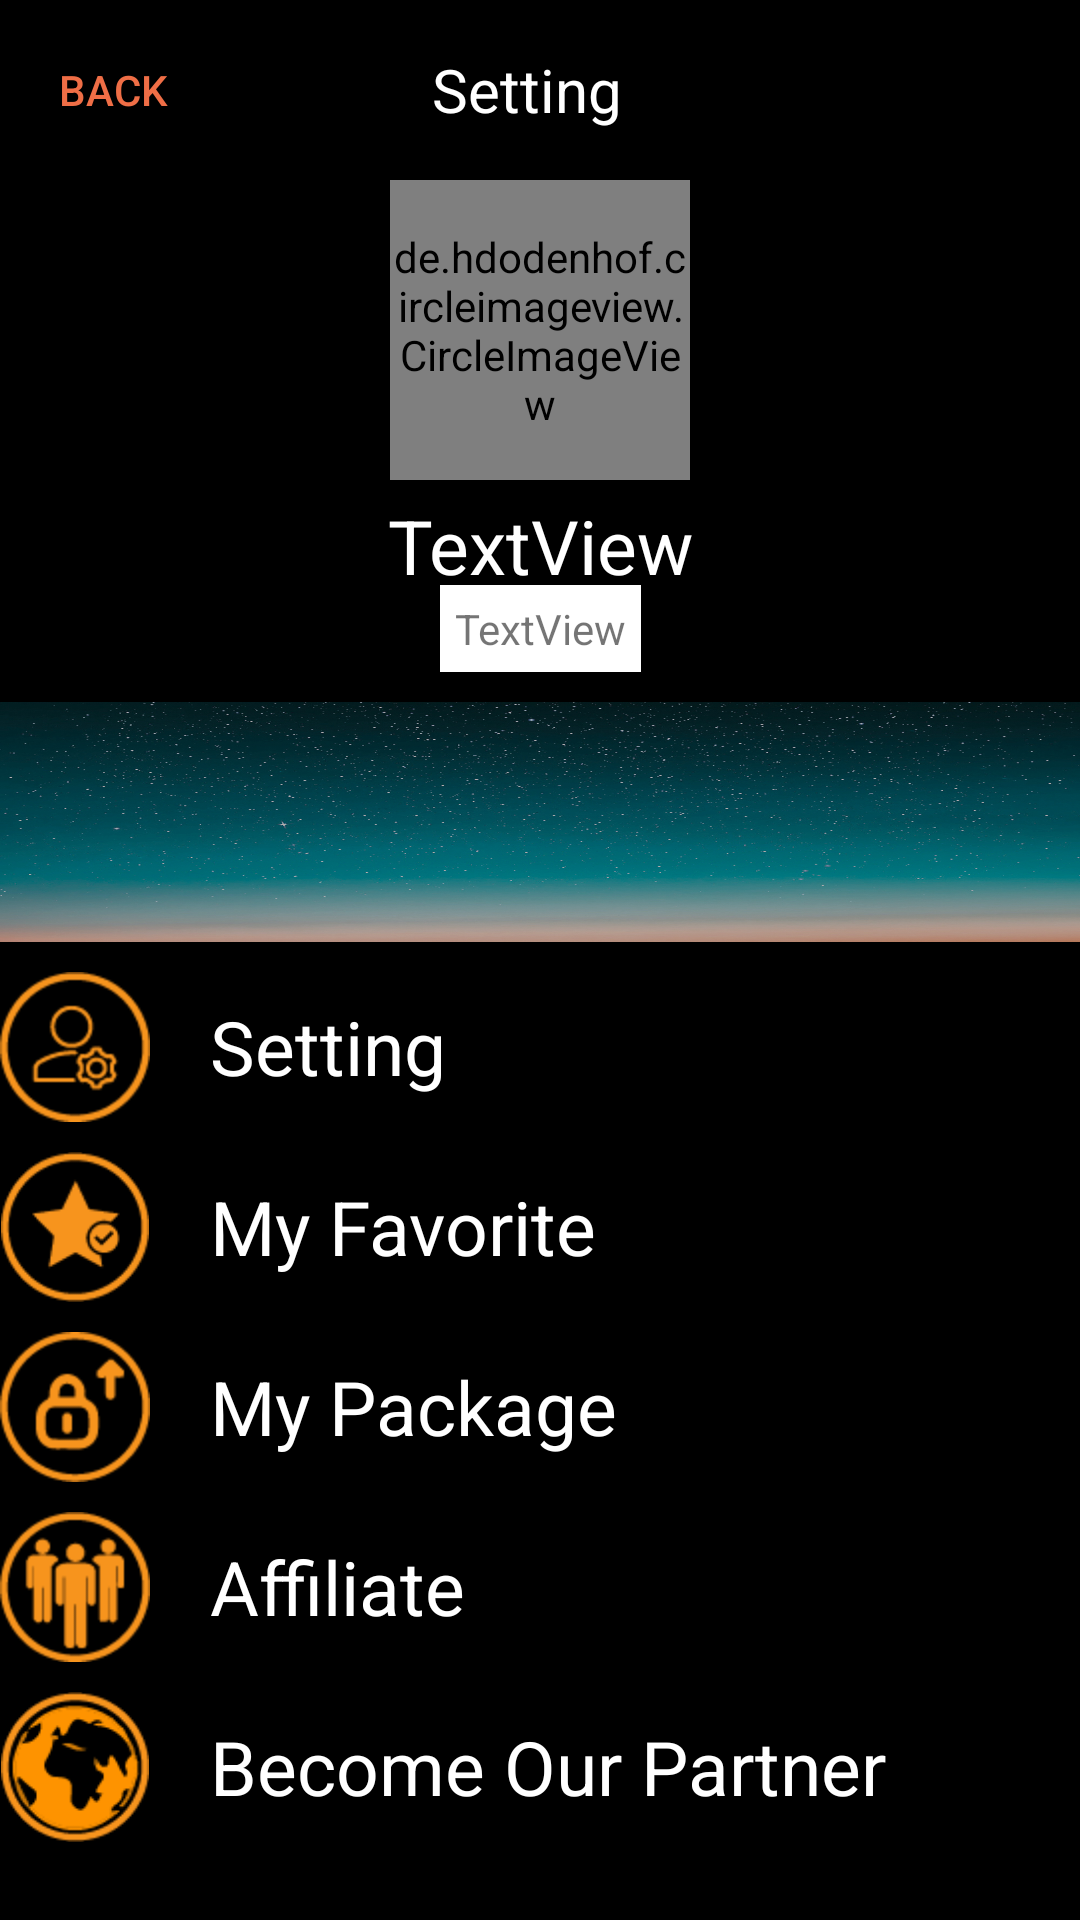

Named icons in this screenshot (1080×1920) and their bounding boxes, (x1=x1, y1=y1, x2=x2, y2=y2):
favoritesasset: (x1=1, y1=1152, x2=149, y2=1302)
